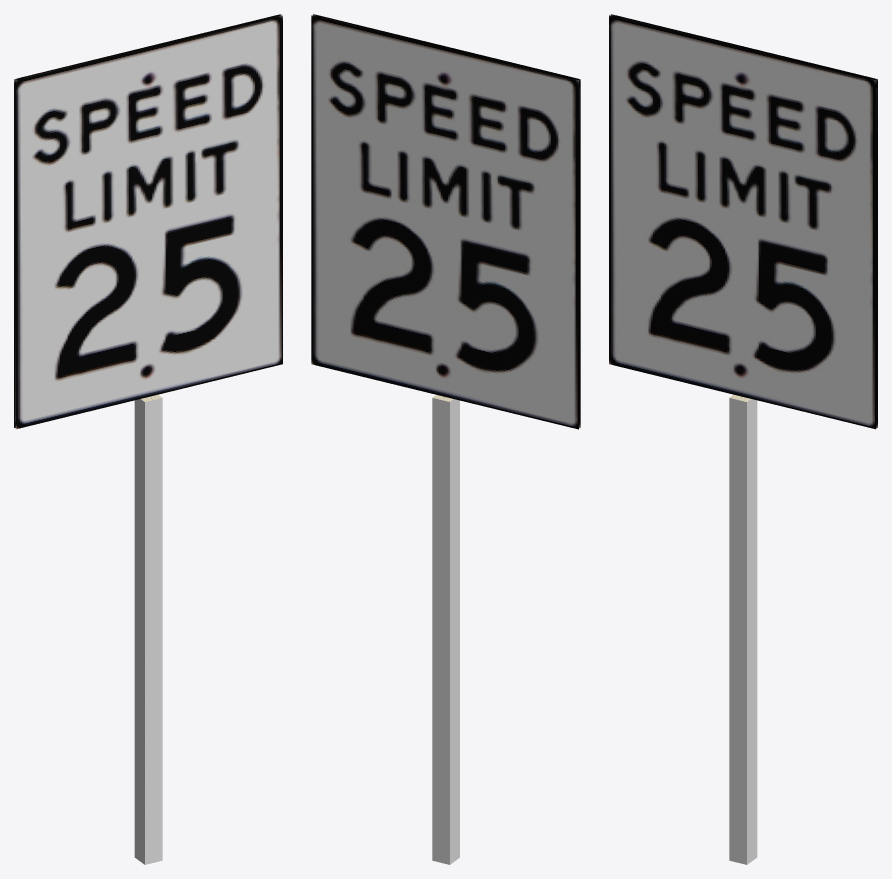
Rendered from sign08.FBX.
3 renders of one model, left to right at view 1: azimuth 30°, elevation 25°; view 2: azimuth 150°, elevation 25°; view 3: azimuth 330°, elevation 25°, orthographic.
Parts seen in each view (by area): view 1: sign08-limit25; view 2: sign08-limit25; view 3: sign08-limit25.
Boxes of the visible parts, x1,y1,x2,y2 form: sign08-limit25: [14, 14, 282, 864]; sign08-limit25: [311, 14, 580, 864]; sign08-limit25: [609, 14, 877, 864].
Size of what is drawn, in the model's own units: 0.9066 by 0.06 by 2.63.
